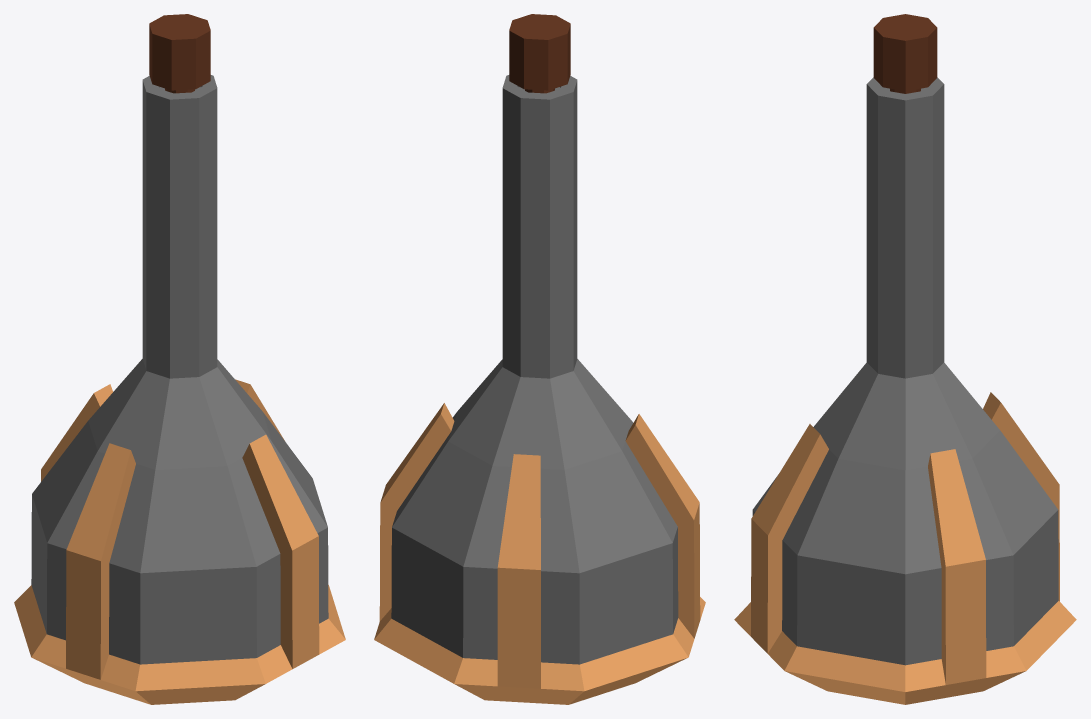
File: potion_white.glb
3 renders of one model, left to right at view 1: azimuth 30°, elevation 25°; view 2: azimuth 150°, elevation 25°; view 3: azimuth 270°, elevation 25°, orthographic.
Parts seen in each view (by area): view 1: Potion; view 2: Potion; view 3: Potion.
Boxes of the visible parts, x1=… form: Potion: x1=14, y1=14, x2=345, y2=704; Potion: x1=374, y1=14, x2=705, y2=704; Potion: x1=734, y1=14, x2=1076, y2=704.
Bounding box in the file's own units: 0.5738 × 1.17 × 0.5738.
